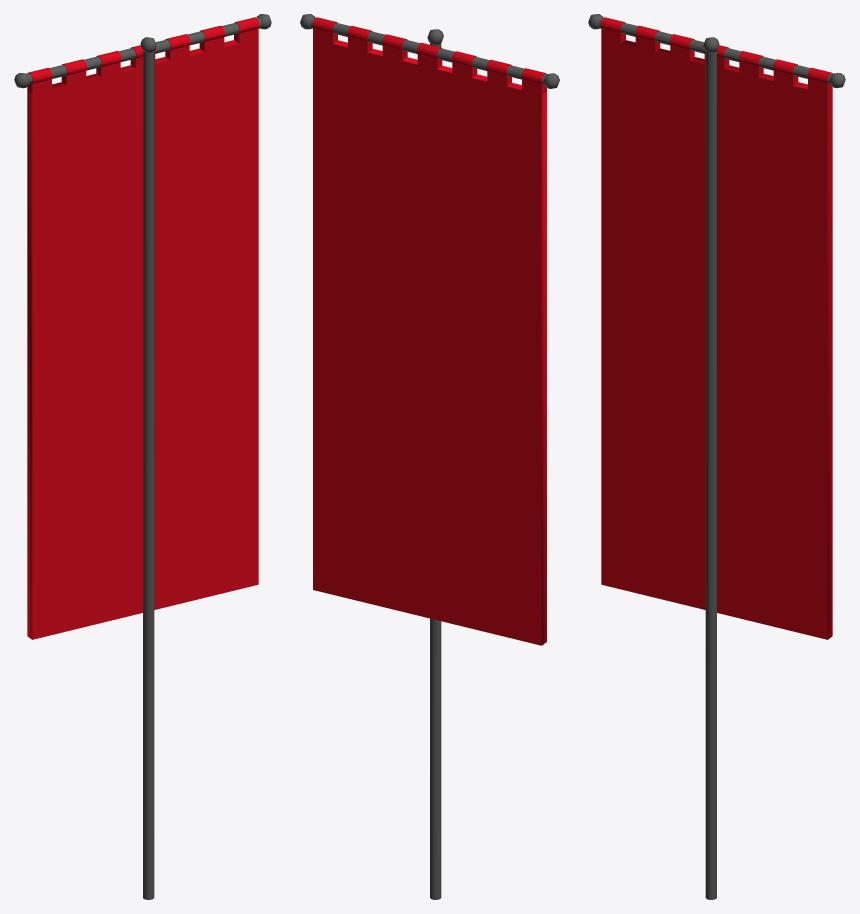
Rendered from Banners.glb.
3 renders of one model, left to right at view 1: azimuth 30°, elevation 25°; view 2: azimuth 150°, elevation 25°; view 3: azimuth 330°, elevation 25°, orthographic.
Parts seen in each view (by area): view 1: Banner, Post, Mount; view 2: Banner, Post, Mount; view 3: Banner, Post, Mount.
Part boxes in pixels (box(x1,y1,x2,y2)): Banner: box(27, 39, 258, 639); Post: box(143, 51, 154, 899); Mount: box(27, 17, 261, 84); Banner: box(313, 39, 546, 645); Post: box(430, 43, 441, 899); Mount: box(310, 17, 546, 84); Banner: box(601, 39, 832, 639); Post: box(705, 51, 716, 899); Mount: box(598, 17, 832, 84).
Size of the model in its own units: 1.96 by 6.31 by 0.1875.
